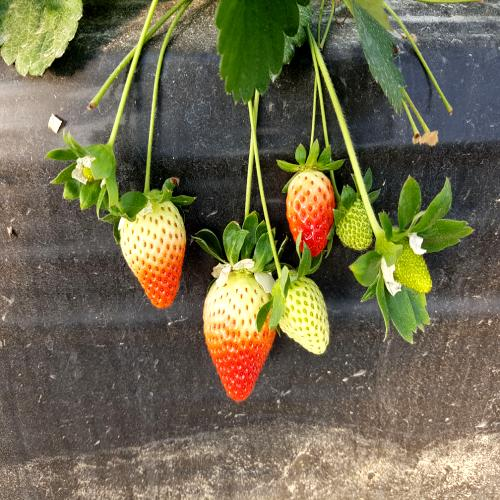partially-ripe: (199, 252, 277, 400), (121, 190, 187, 315), (279, 148, 335, 269)
